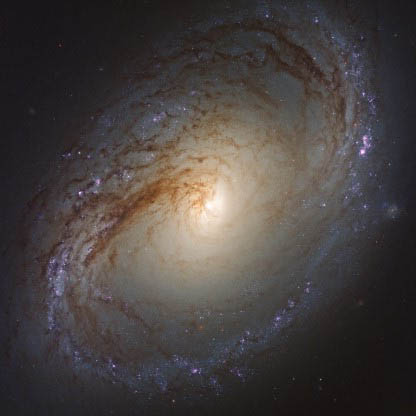Messier 96: (12, 11, 395, 407)
